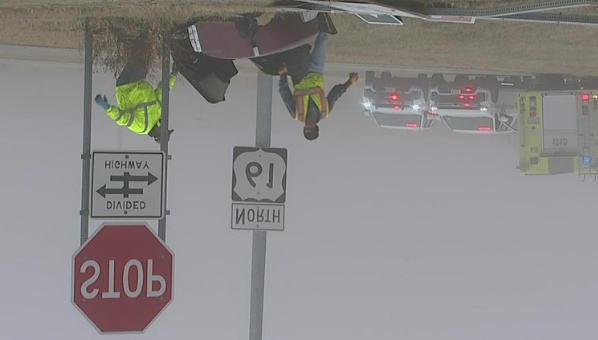Stop: (62, 214, 188, 339)
